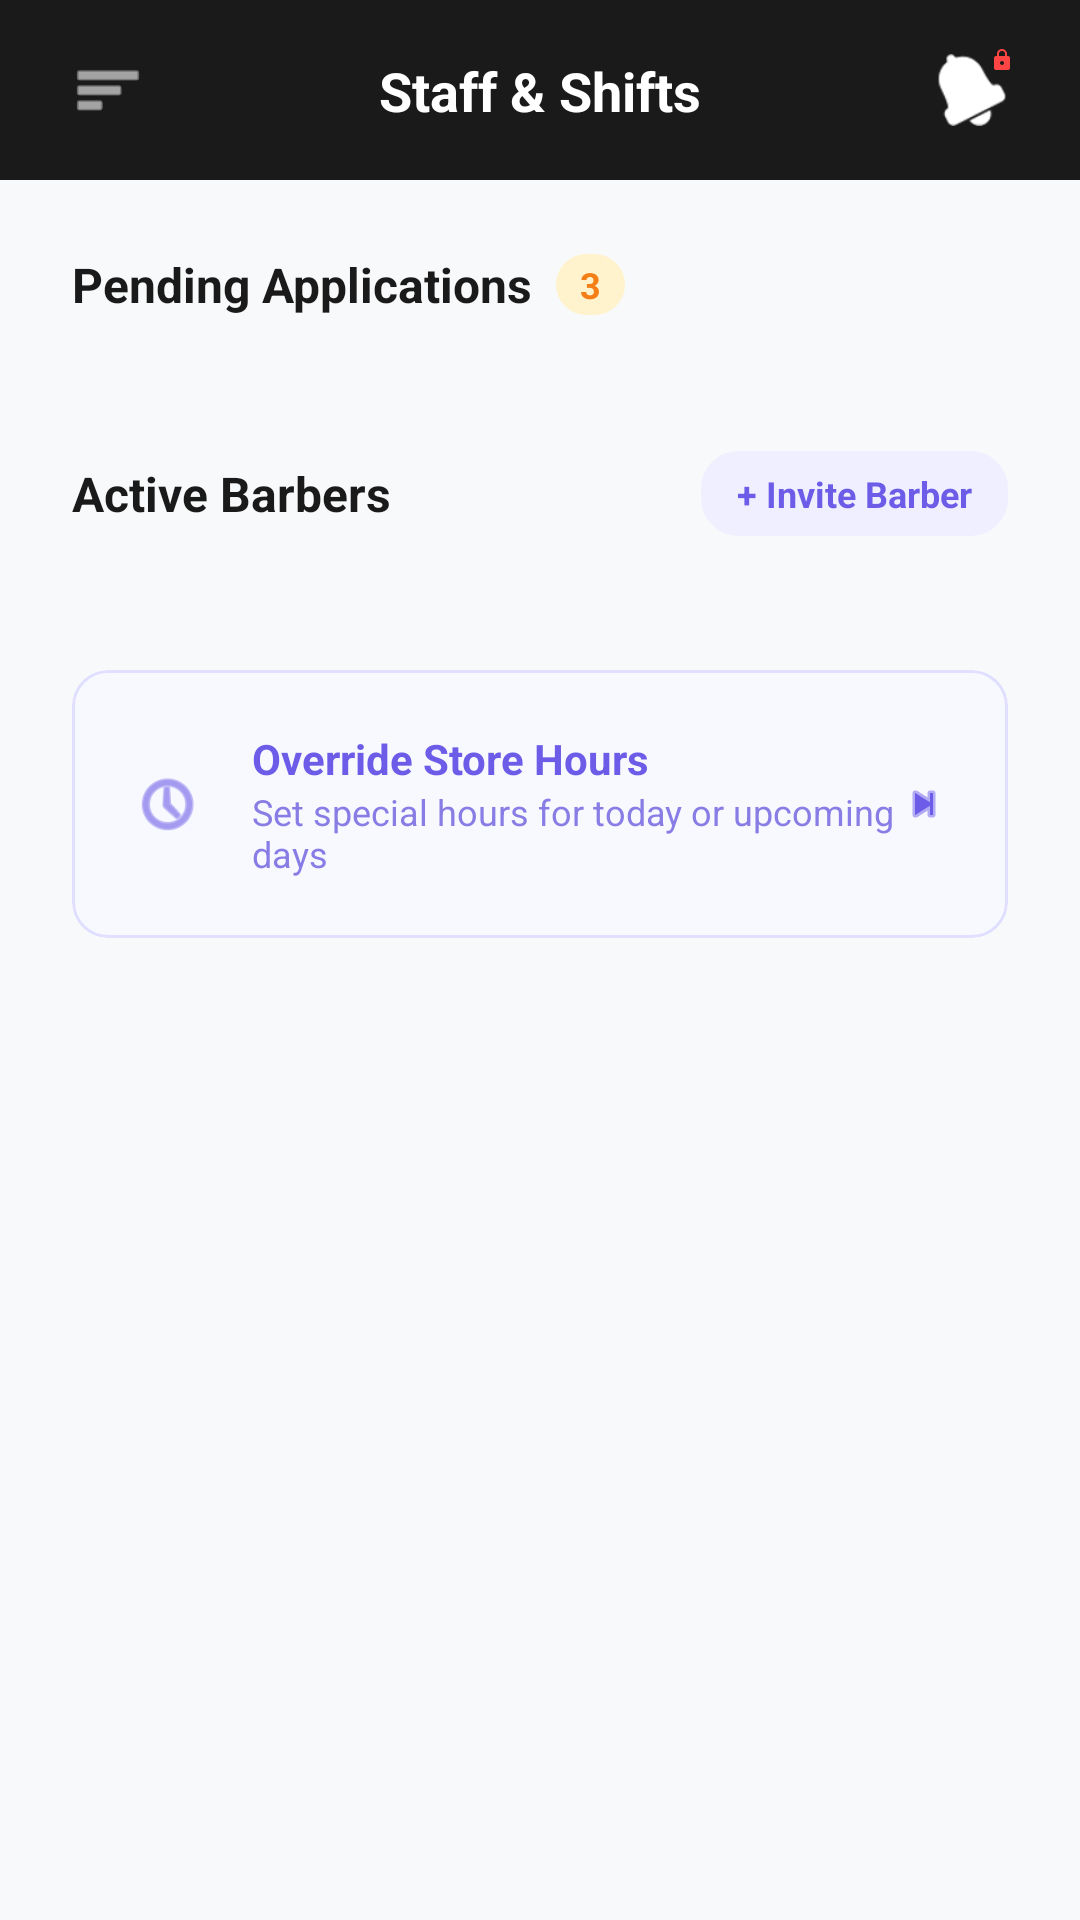

Named icons in this screenshot (1080w x 1920h) and their centers, (x=x, y=y):
next: (x=924, y=804)
recent history: (x=168, y=804)
sort by size: (x=108, y=90)
